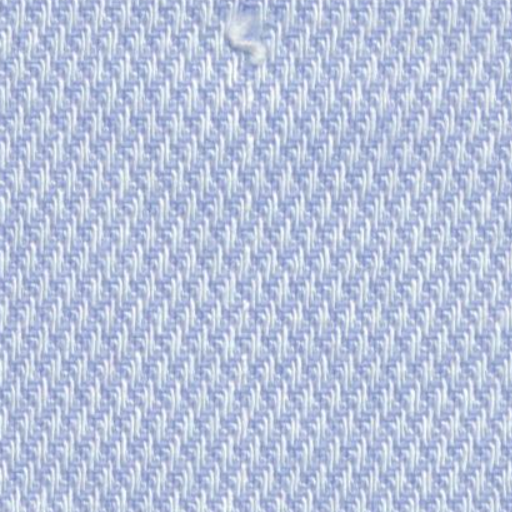DuanSha: (209, 8, 281, 75)
